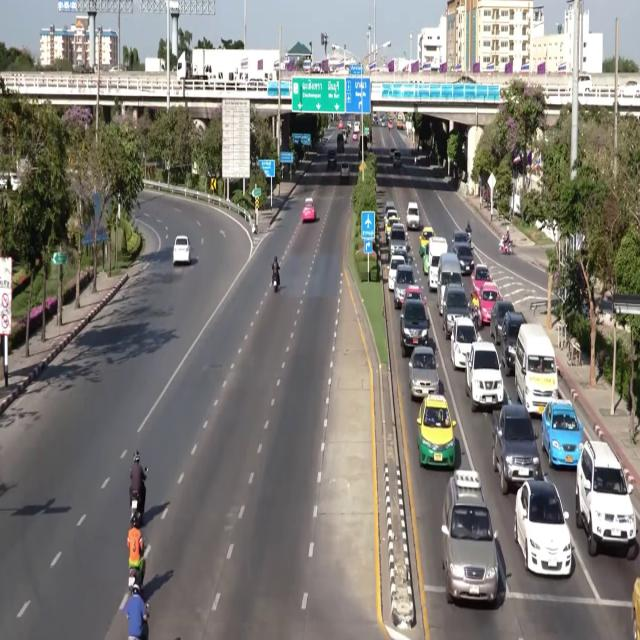car: (441, 470, 500, 604), (576, 440, 637, 559), (514, 480, 571, 576), (492, 404, 543, 495), (541, 400, 583, 468), (417, 395, 455, 468), (466, 342, 504, 412), (497, 312, 526, 375), (408, 346, 440, 399), (400, 301, 429, 357), (442, 283, 469, 339), (451, 317, 479, 368), (476, 281, 500, 327), (489, 300, 514, 344), (394, 264, 415, 309), (388, 223, 408, 255), (388, 255, 405, 291), (471, 264, 491, 294), (454, 244, 474, 274), (173, 235, 191, 265), (632, 578, 639, 639), (419, 227, 434, 255), (385, 209, 399, 237), (406, 202, 420, 229), (404, 285, 425, 303), (302, 198, 316, 223), (619, 80, 639, 97), (451, 231, 469, 249), (394, 250, 412, 264), (392, 150, 402, 168), (385, 200, 396, 215), (328, 149, 336, 168), (341, 162, 349, 181), (353, 120, 360, 133), (390, 148, 396, 159), (352, 132, 358, 142), (347, 120, 352, 131), (338, 120, 343, 130), (388, 121, 393, 130)
scooty: (130, 491, 143, 521), (128, 568, 142, 594), (499, 240, 512, 255)
truck: (177, 48, 279, 81), (145, 57, 165, 72), (337, 133, 344, 153), (397, 112, 404, 130)
